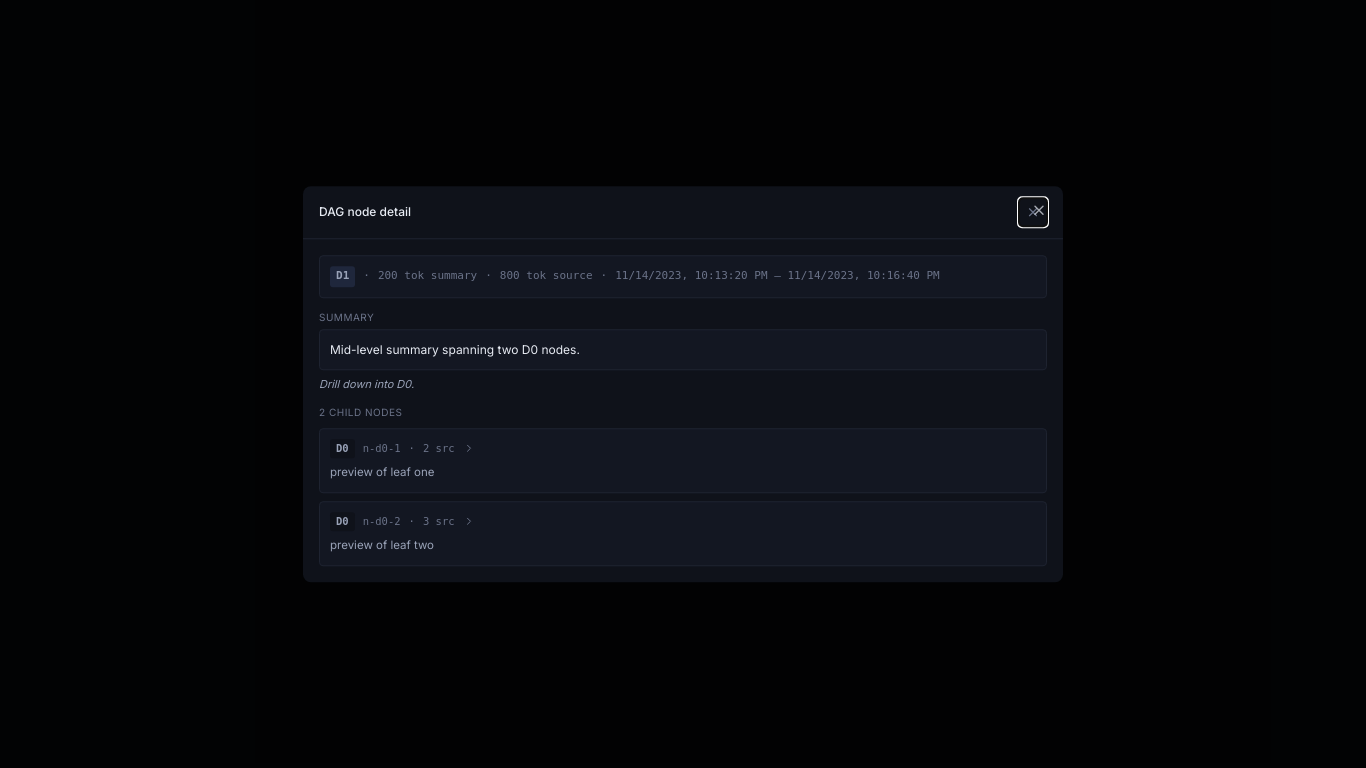
Test case: <MessageDrillModal /> › clicking a child row drills into that node and replaces content
Step 1. Click the button with test id "message-drill-child-n-d0-1" → {"x": 382, "y": 448}, box [319, 428, 1047, 493]
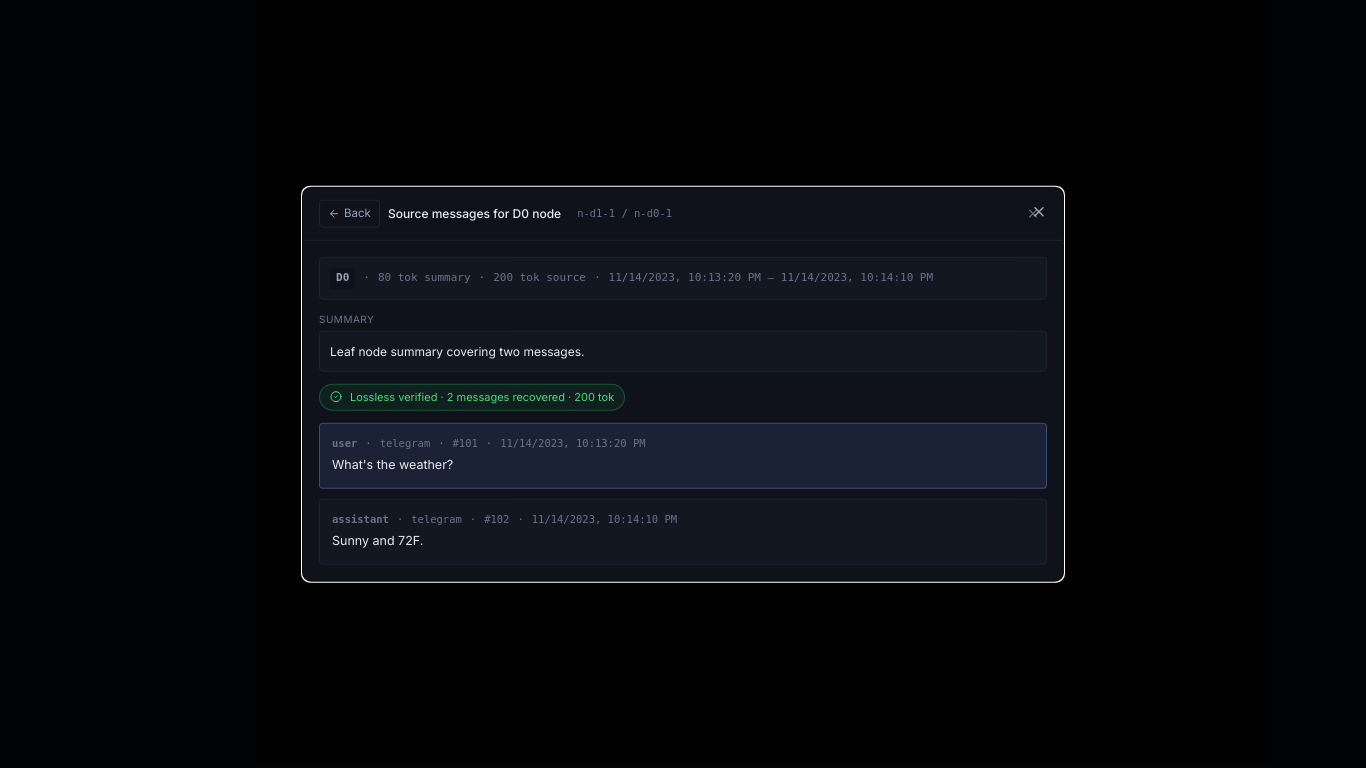
Now the element with test id "message-drill-list" is shown, box [319, 422, 1047, 564]
Now the text "What's the weather?" is shown, box [332, 457, 453, 472]
